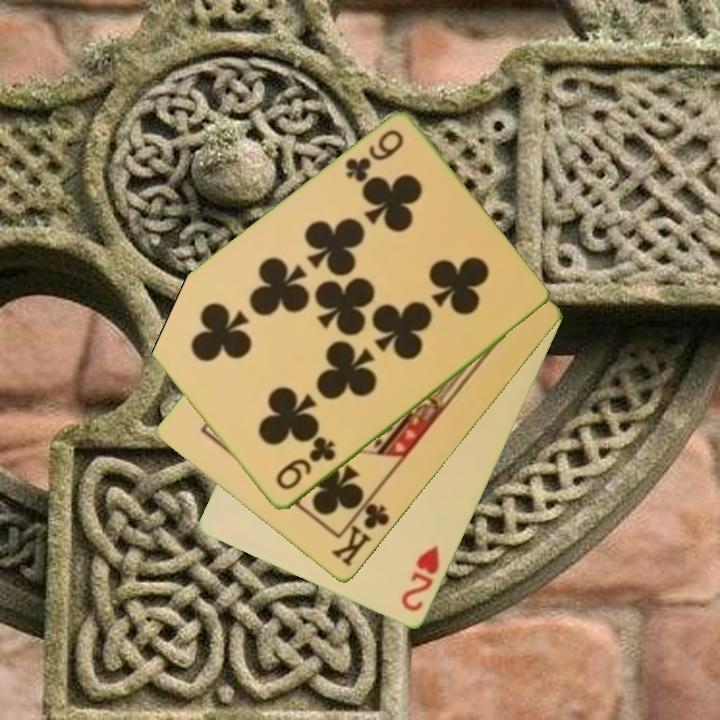2h: (398, 542, 443, 616)
9c: (341, 126, 407, 186), (272, 435, 339, 494)
Kc: (327, 491, 393, 571)
